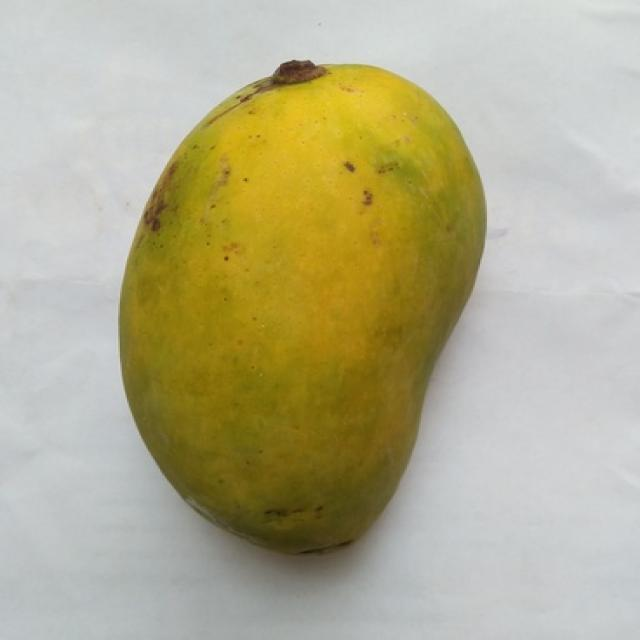Mango: (120, 63, 482, 550)
